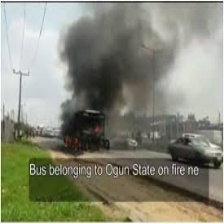smoke: (67, 5, 178, 116)
